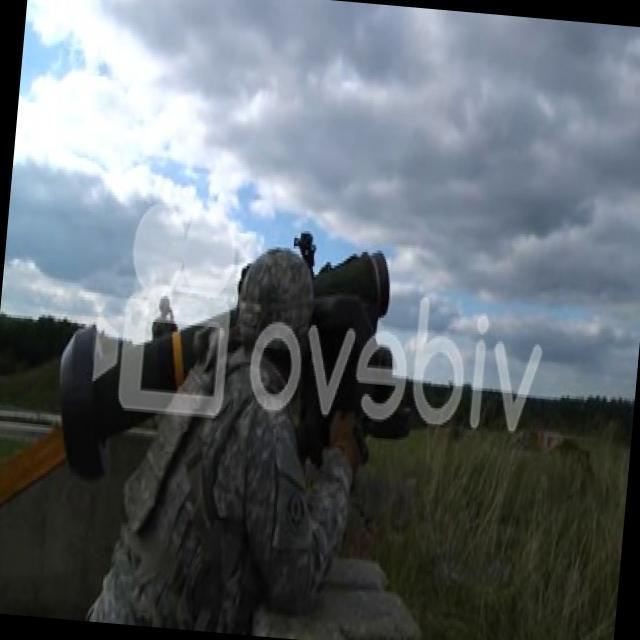rocket: (46, 296, 233, 484)
